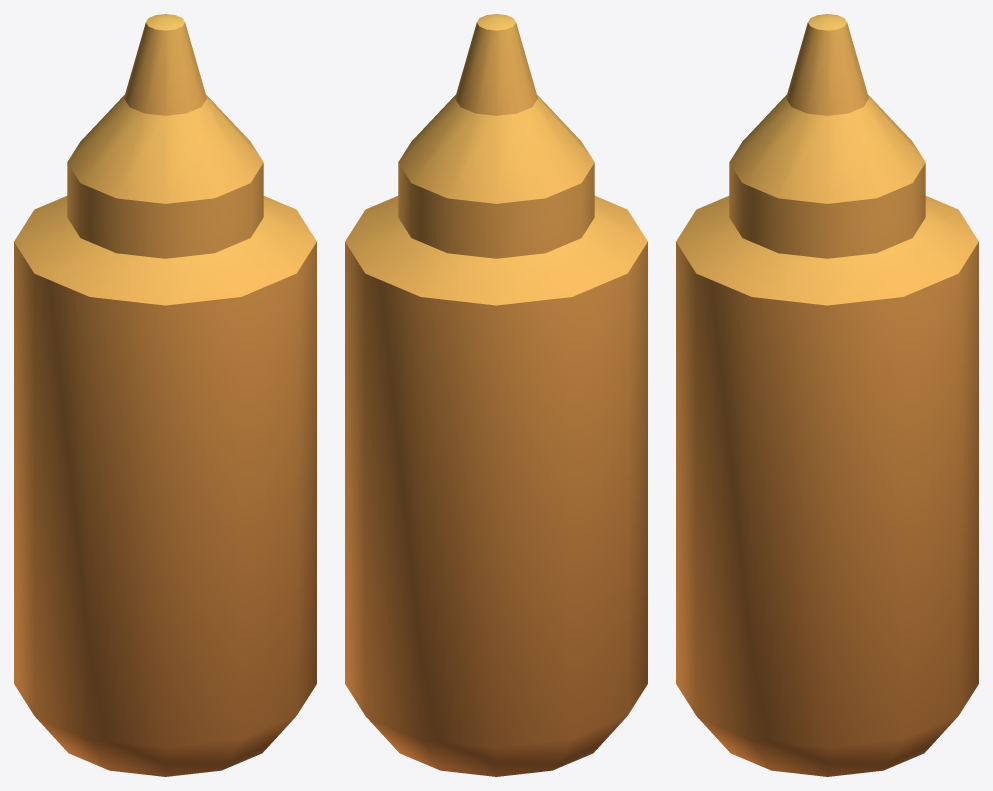
File: kay-mustard.glb
3 views of the same model, side by side, from view 1: azimuth 30°, elevation 25°; view 2: azimuth 150°, elevation 25°; view 3: azimuth 270°, elevation 25° (orthographic).
Parts seen in each view (by area): view 1: mustard; view 2: mustard; view 3: mustard.
Boxes of the visible parts, x1,y1,x2,y2 form: mustard: (14, 14, 316, 776); mustard: (345, 14, 647, 776); mustard: (676, 14, 978, 776).
Size of the model in its own units: 0.0848 by 0.22 by 0.0848.
Materials: 1 (1 with a texture image).
